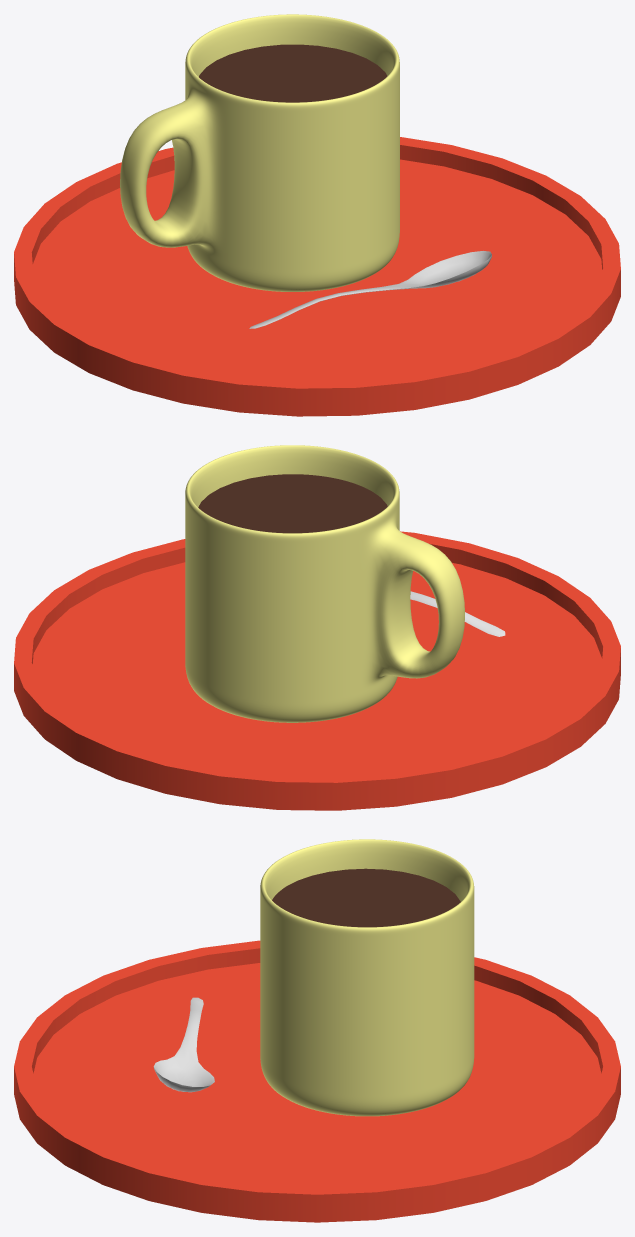
File: gelasBaru1.gltf
3 renders of one model, top to bottom at view 1: azimuth 30°, elevation 25°; view 2: azimuth 150°, elevation 25°; view 3: azimuth 270°, elevation 25°, orthographic.
Visible parts, largest first — view 1: Circle.001, Cylinder, Cylinder.001, Circle.002; view 2: Circle.001, Cylinder, Cylinder.001, Circle.002; view 3: Circle.001, Cylinder, Cylinder.001, Circle.002.
Boxes of the visible parts, <box> form: Circle.001: <box>14,137,620,416</box>; Cylinder: <box>120,14,399,291</box>; Cylinder.001: <box>199,44,387,102</box>; Circle.002: <box>249,251,491,328</box>; Circle.001: <box>14,531,620,810</box>; Cylinder: <box>185,445,464,722</box>; Cylinder.001: <box>198,474,387,533</box>; Circle.002: <box>410,591,505,636</box>; Circle.001: <box>14,940,620,1222</box>; Cylinder: <box>260,839,474,1116</box>; Cylinder.001: <box>272,868,460,927</box>; Circle.002: <box>153,997,214,1092</box>.
Bounding box in the file's own units: 3.29 × 1.26 × 3.29.
